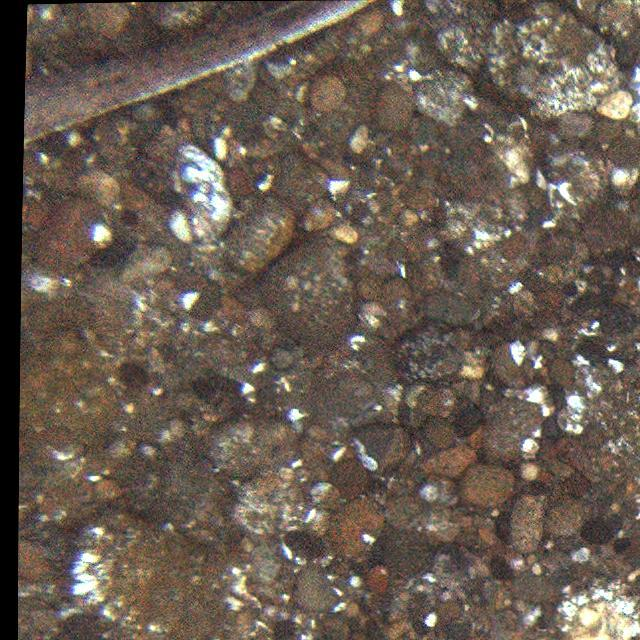skate: (29, 6, 395, 150)
